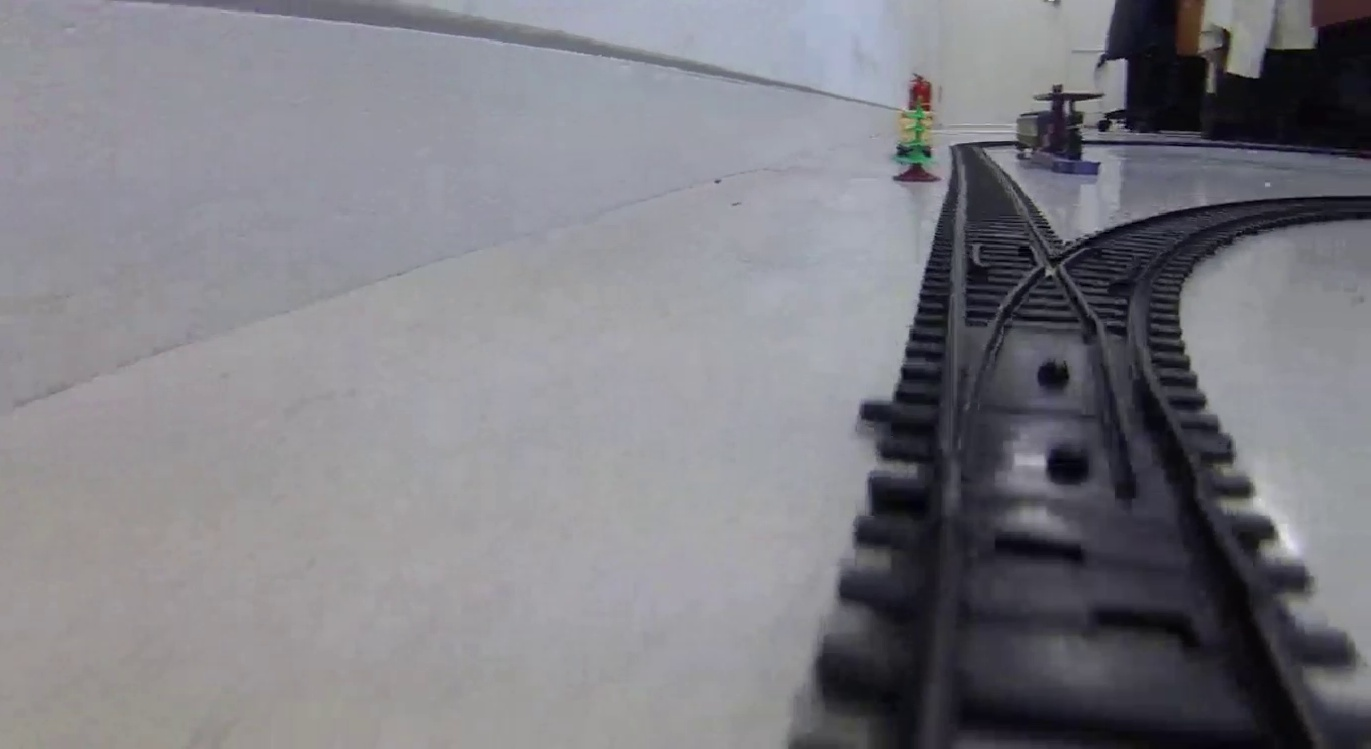tree: (892, 103, 943, 186)
